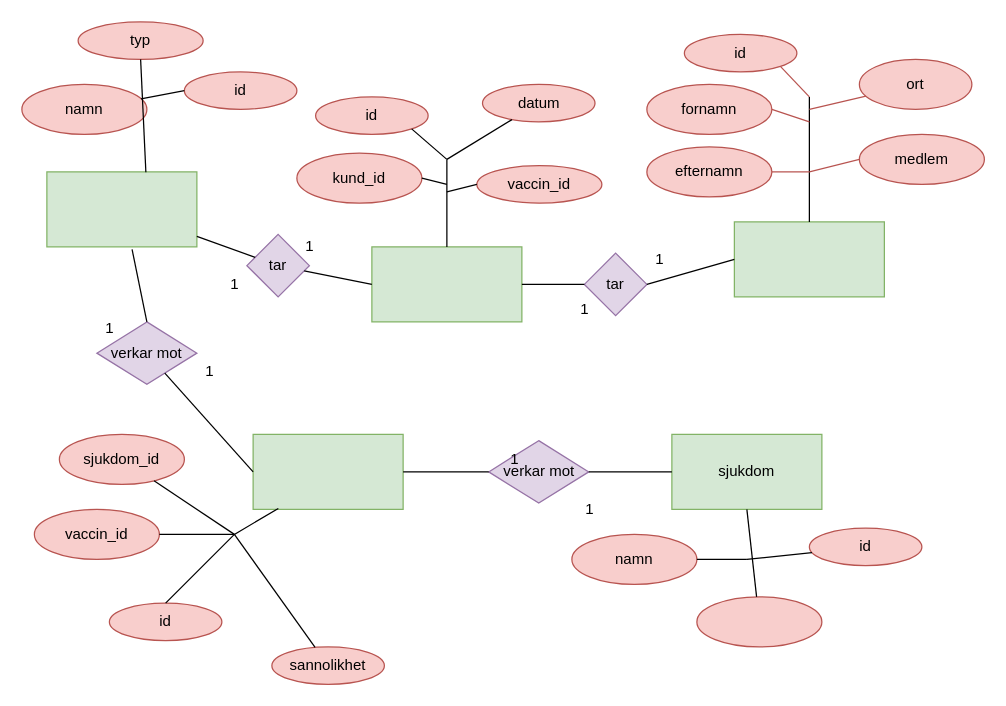
Image size: 1006x706. Some labels were removed from this diagram. Each missing label, with the centre of its shape:
"beskrivning" goes at [759,621].
"kund" goes at [808,259].
"kund2vaccin" goes at [446,284].
"vaccin" goes at [121,209].
"vaccin2sjukdom" goes at [327,471].
